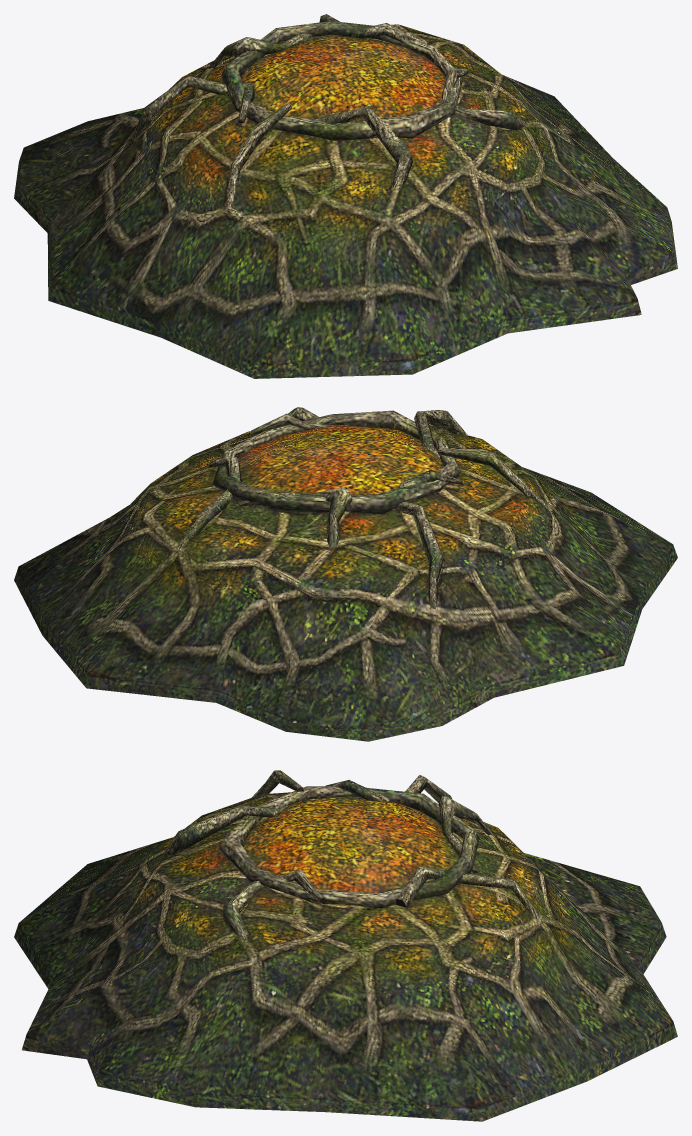
Rendered from deadmushroom_04.glb.
3 renders of one model, top to bottom at view 1: azimuth 30°, elevation 25°; view 2: azimuth 150°, elevation 25°; view 3: azimuth 270°, elevation 25°, orthographic. The views are drawn at different scales.
Parts seen in each view (by area): view 1: deadmushroom_04; view 2: deadmushroom_04; view 3: deadmushroom_04.
Part boxes in pixels (box(x1,y1,x2,y2)): deadmushroom_04: box(14, 14, 677, 378); deadmushroom_04: box(14, 407, 677, 741); deadmushroom_04: box(14, 770, 677, 1121).
Size of the model in its own units: 7.3 by 2.01 by 7.3.
Materials: 1 (1 with a texture image).
